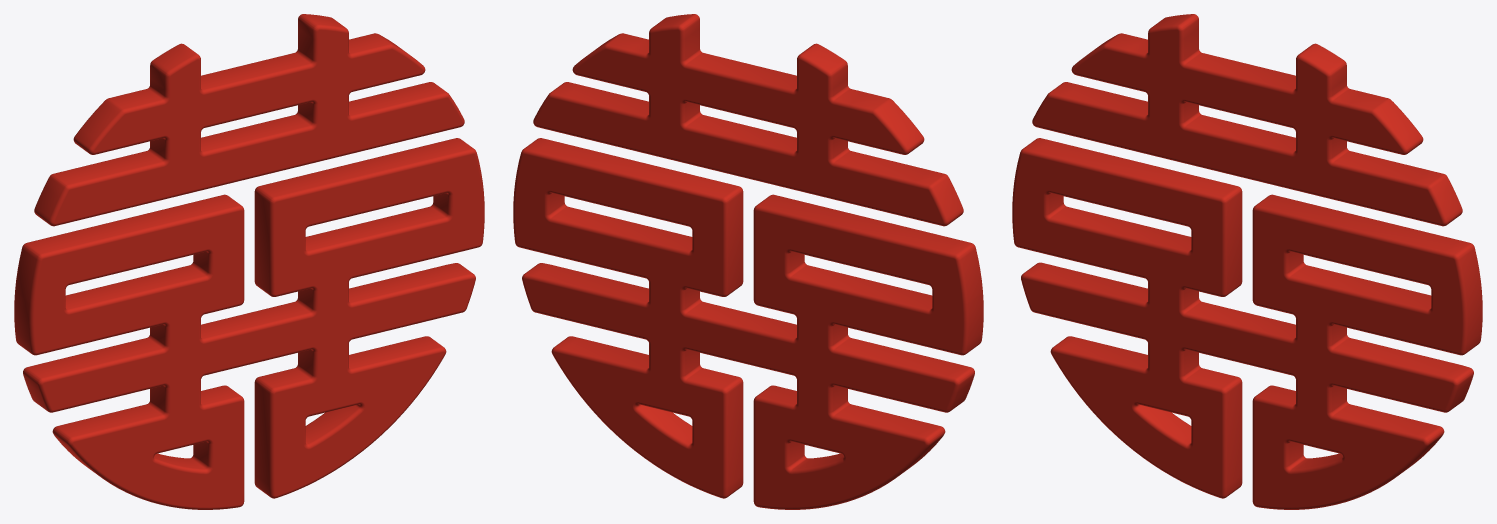
The model's file is xi-doble-ligera.glb.
3 views of the same model, side by side, from view 1: azimuth 30°, elevation 25°; view 2: azimuth 150°, elevation 25°; view 3: azimuth 330°, elevation 25° (orthographic).
Visible parts, largest first — view 1: geometry_0; view 2: geometry_0; view 3: geometry_0.
Boxes of the visible parts, left/top/right/bottom form: geometry_0: left=14, top=14, right=484, bottom=509; geometry_0: left=513, top=14, right=983, bottom=509; geometry_0: left=1012, top=14, right=1482, bottom=509.
Size of the model in its own units: 1 by 0.9718 by 0.07.
